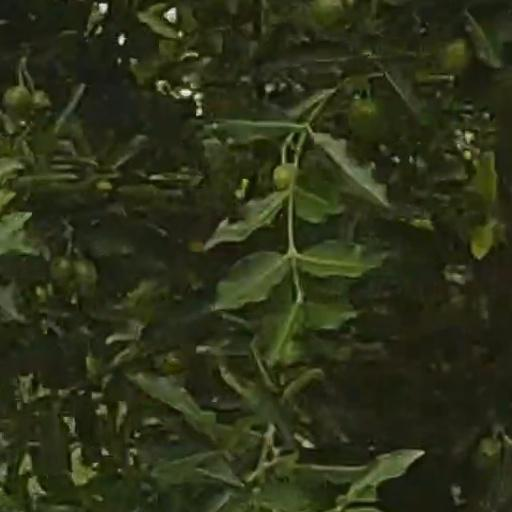acerola_verde: (350, 99, 392, 142), (52, 259, 94, 297), (313, 1, 356, 26), (8, 90, 28, 117)
